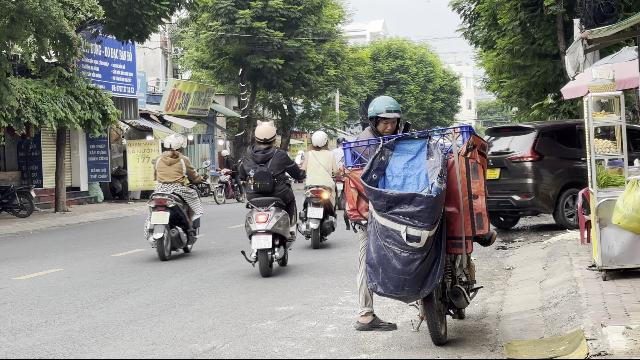helmet: (253, 122, 277, 146), (162, 133, 184, 153), (309, 130, 327, 148)
licenseplate: (252, 236, 272, 249), (150, 212, 170, 223), (307, 208, 323, 218)
motorcyclist: (238, 121, 298, 276), (143, 133, 203, 259), (297, 129, 339, 247)
